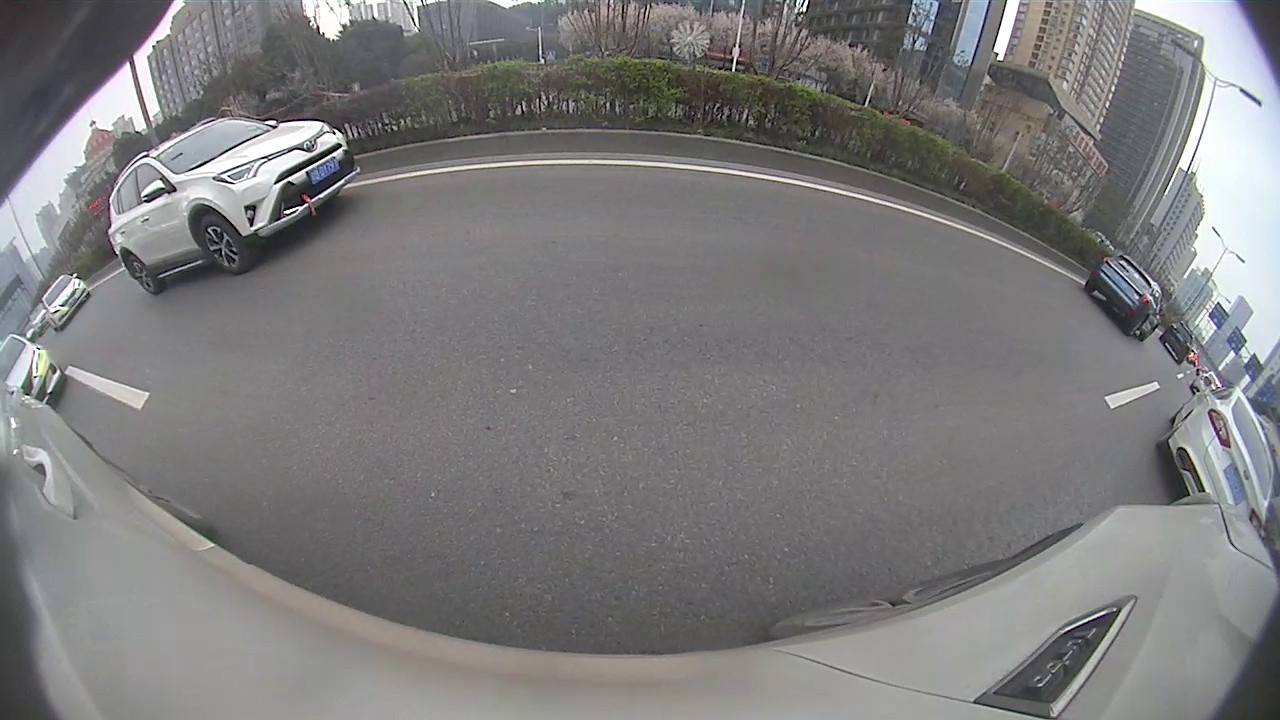bus: (1151, 144, 1278, 397)
car: (861, 126, 1237, 370), (312, 173, 465, 253), (510, 150, 599, 208), (651, 163, 667, 179)
front: (1199, 318, 1255, 402), (861, 199, 904, 250), (446, 196, 464, 219)
rear: (1038, 268, 1117, 364), (379, 208, 404, 239)
